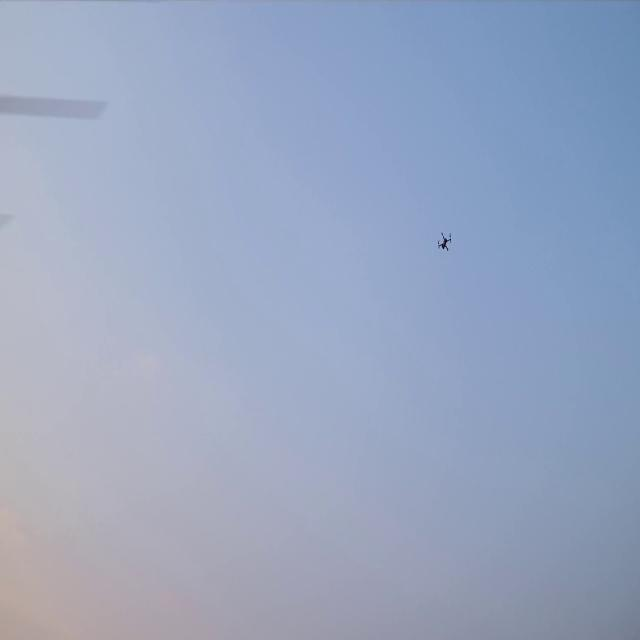UAV: (438, 234, 450, 250)
